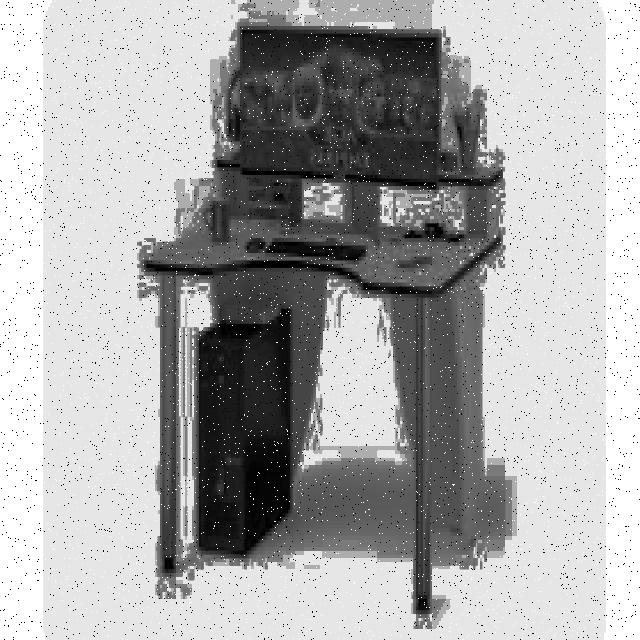table: (144, 208, 503, 610)
